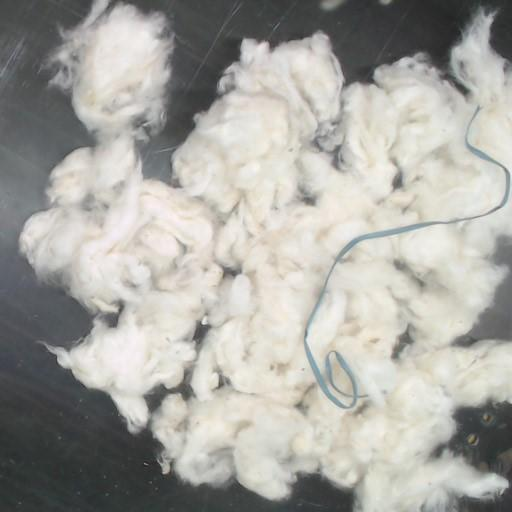cotton: (19, 0, 511, 511)
thread: (305, 107, 511, 408)
